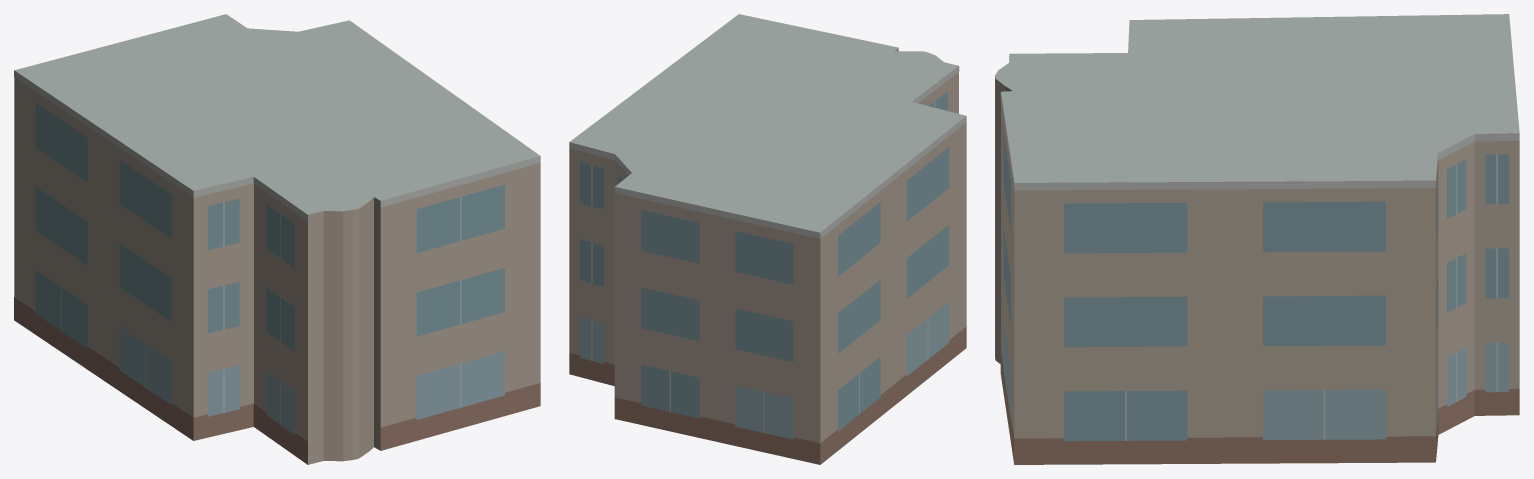
Rendered from survey-upis-32620789.glb.
3 renders of one model, left to right at view 1: azimuth 30°, elevation 25°; view 2: azimuth 150°, elevation 25°; view 3: azimuth 270°, elevation 25°, orthographic. The views are drawn at different scales.
Parts seen in each view (by area): view 1: survey-upis-32620789.tmp; view 2: survey-upis-32620789.tmp; view 3: survey-upis-32620789.tmp.
Part boxes in pixels (x1,y1,x2,y2): survey-upis-32620789.tmp: (14, 14, 540, 464); survey-upis-32620789.tmp: (569, 14, 966, 464); survey-upis-32620789.tmp: (995, 14, 1519, 464).
Size of the model in its own units: 11.77 by 9.15 by 15.44.
